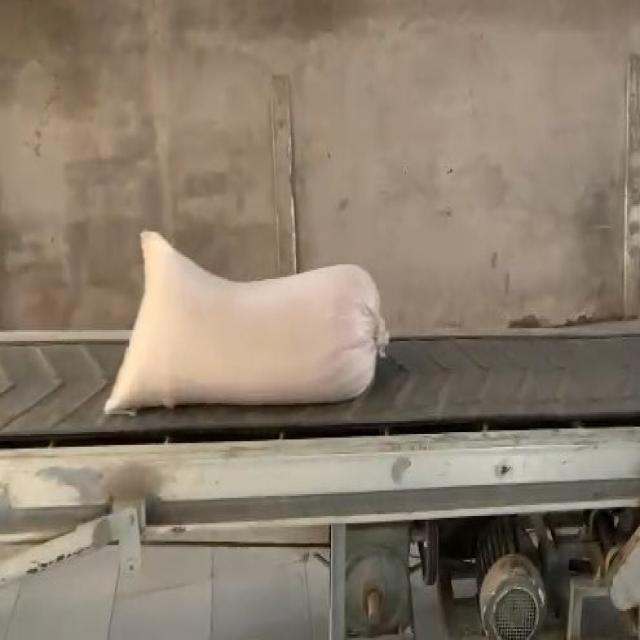gunny_bag: (105, 232, 389, 414)
